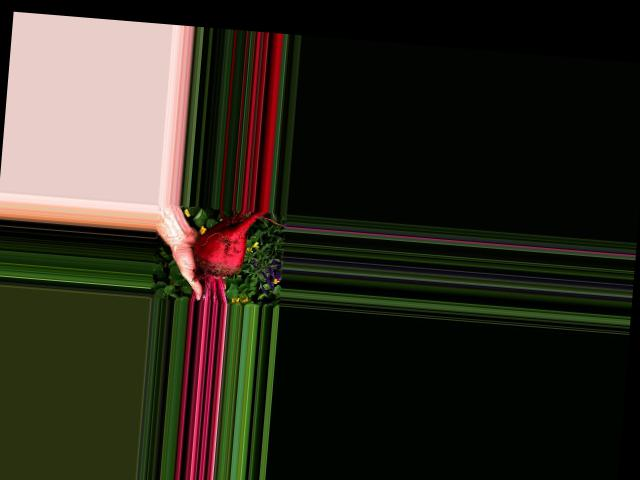beet: (190, 205, 267, 306)
